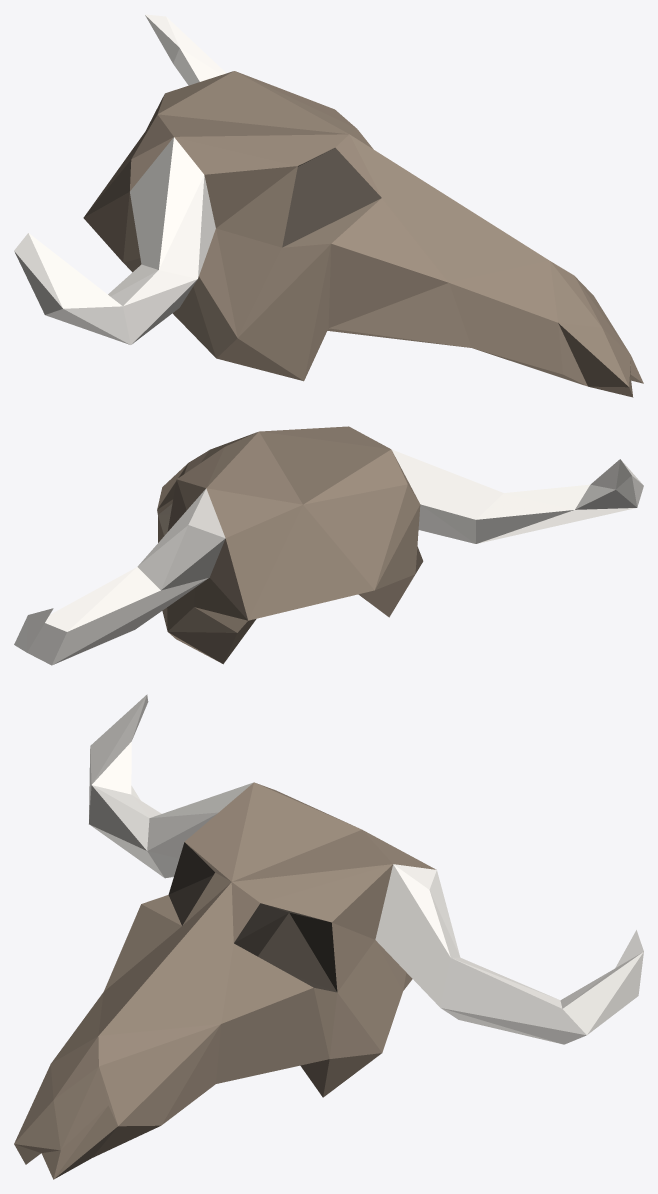
The model's file is obstaculo_desierto_fosil.fbx.
3 views of the same model, one above another, from view 1: azimuth 30°, elevation 25°; view 2: azimuth 150°, elevation 25°; view 3: azimuth 270°, elevation 25° (orthographic). The views are drawn at different scales.
Visible parts, largest first — view 1: Fosil; view 2: Fosil; view 3: Fosil.
Part boxes in pixels (box(x1,y1,x2,y2)): Fosil: box(14, 14, 643, 397); Fosil: box(14, 426, 643, 665); Fosil: box(14, 694, 643, 1179).
Size of the model in its own units: 21.24 by 8.96 by 21.74.
